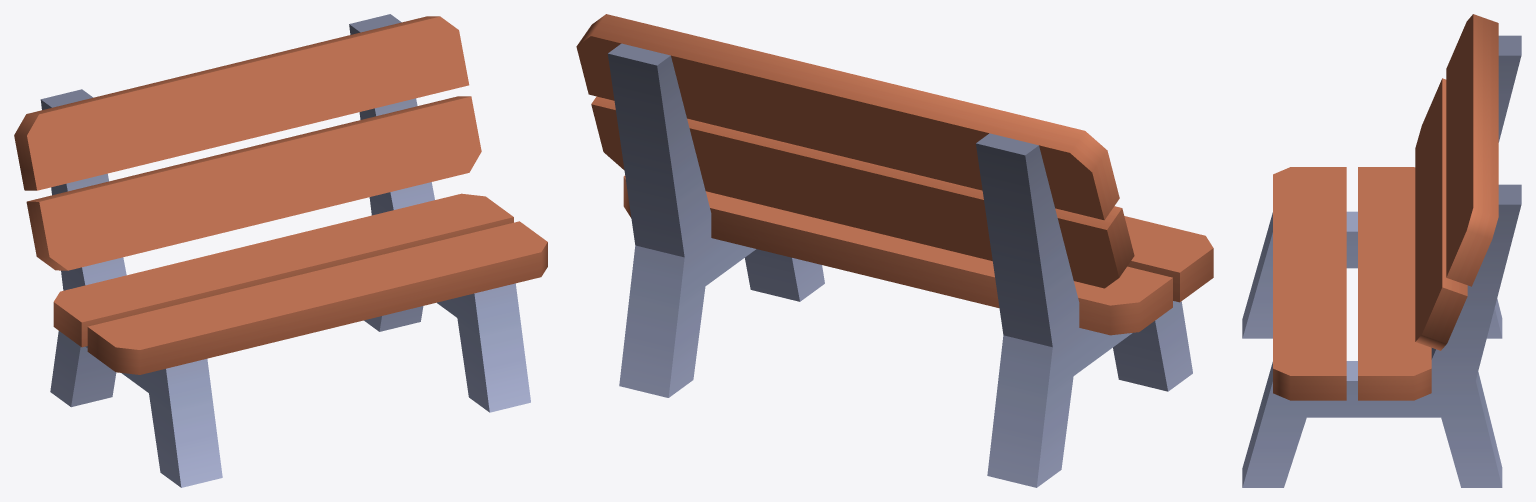
The model's file is k-graveyard-bench.glb.
The picture shows the model from 3 angles, left to right: view 1: azimuth 30°, elevation 25°; view 2: azimuth 150°, elevation 25°; view 3: azimuth 270°, elevation 25°; orthographic projection. The views are drawn at different scales.
Visible parts, largest first — view 1: bench; view 2: bench; view 3: bench.
Boxes of the visible parts, left/top/right/bottom form: bench: left=14, top=14, right=547, bottom=487; bench: left=576, top=14, right=1213, bottom=487; bench: left=1242, top=14, right=1521, bottom=487.
Bounding box in the file's own units: 0.8072 × 0.526 × 0.4552.
1 material, 1 textured.
